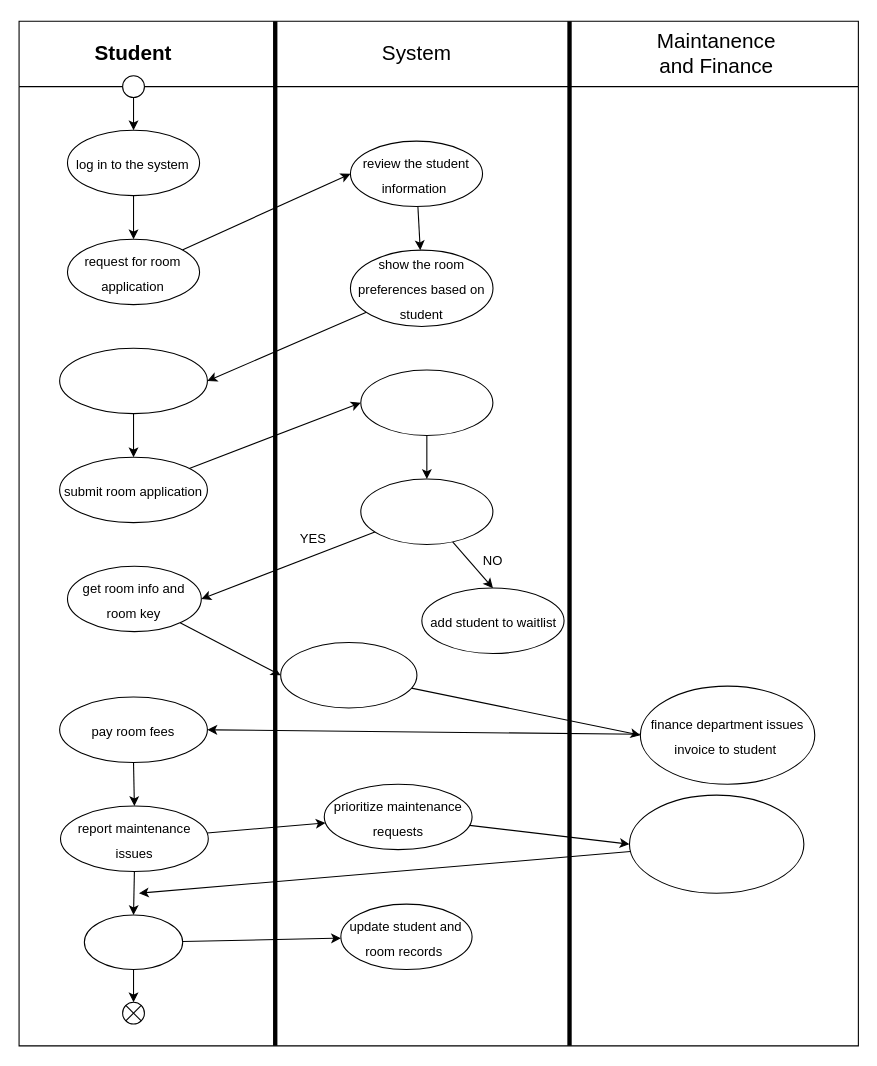
Image size: 877x1066. Some labels were removed from this diagram. The shapes that lost their labels are listed below. From the top down, each one's centre as x and y in pixels, then its label:
the point at 133,380: check room availability and select room
the point at 426,402: determine room requirement
the point at 426,511: room assigment
the point at 348,674: generate fee invoice
the point at 716,843: resolve the maintenance issues by contact relevant stakeholders
the point at 133,942: get to stay in new room
